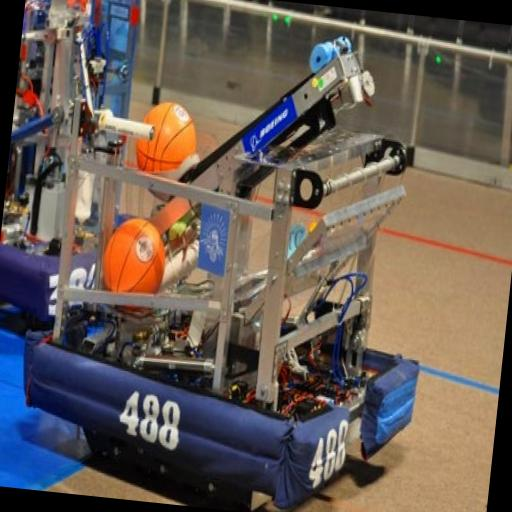robot: (14, 19, 451, 512)
